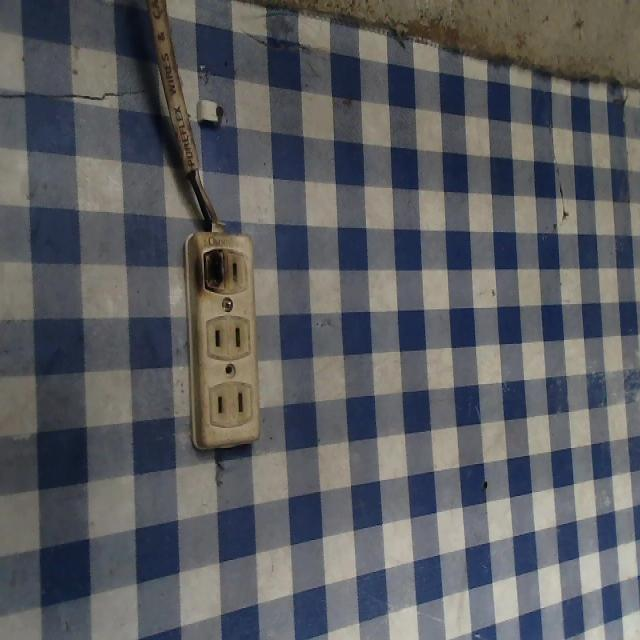-: (195, 234, 231, 298)
